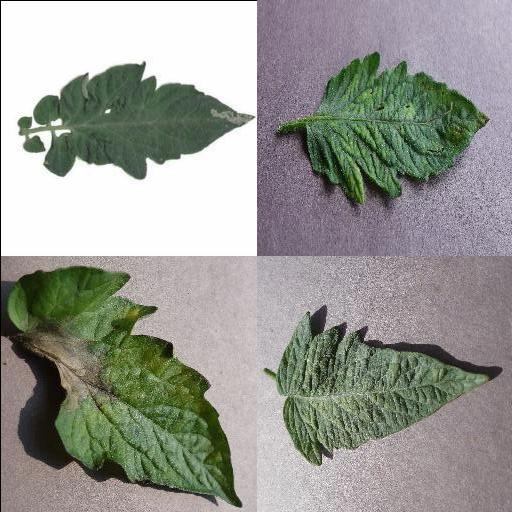Late Blight: (6, 265, 242, 509)
Leaf Miner: (56, 62, 255, 184)
Mosaic Virus: (305, 52, 489, 208)
Spider Mites: (273, 310, 491, 466)
